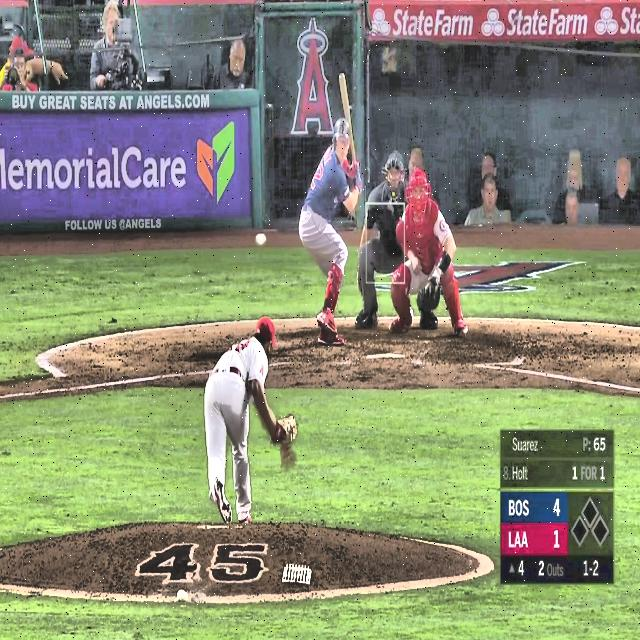baseball: (256, 233, 266, 247)
